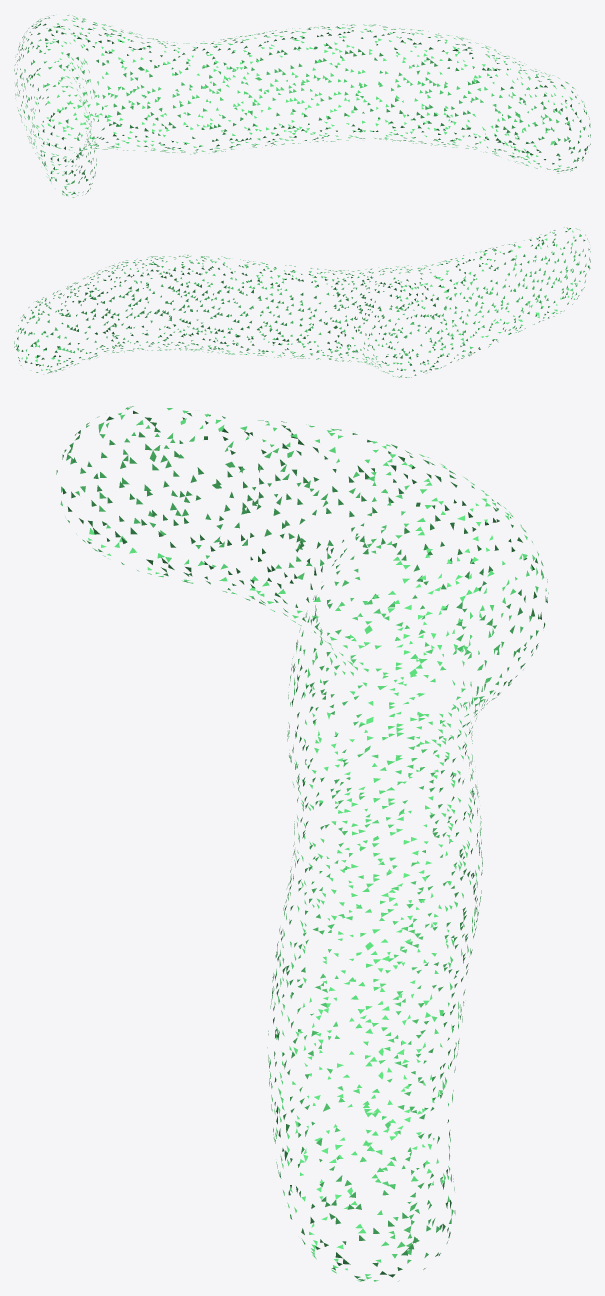
Rendered from morph_020.glb.
3 views of the same model, one above another, from view 1: azimuth 30°, elevation 25°; view 2: azimuth 150°, elevation 25°; view 3: azimuth 270°, elevation 25° (orthographic). The views are drawn at different scales.
Bounding box in the file's own units: 112 × 46.8 × 48.57.
